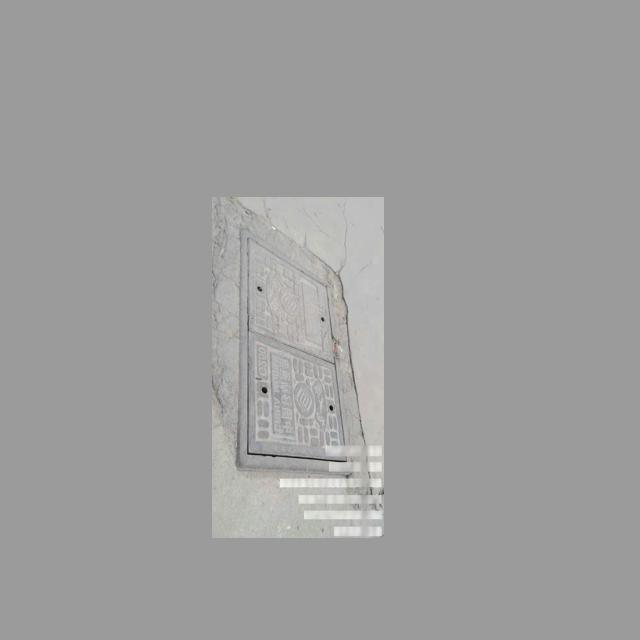good: (237, 229, 356, 472)
